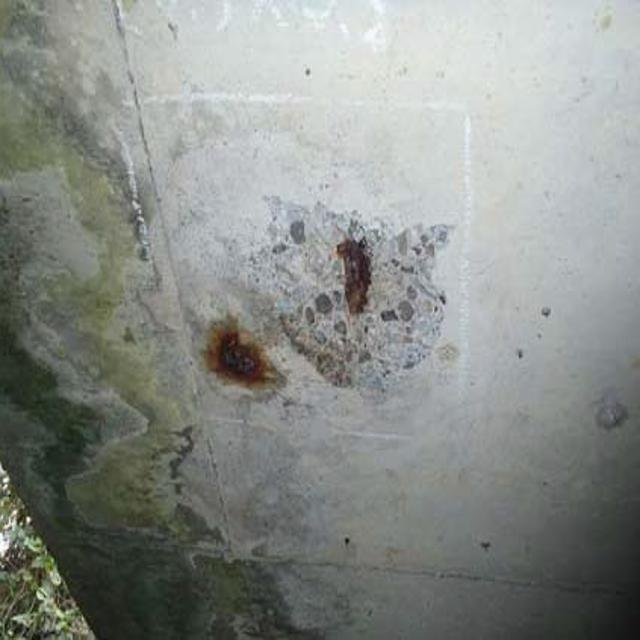spalling: (177, 169, 462, 427)
